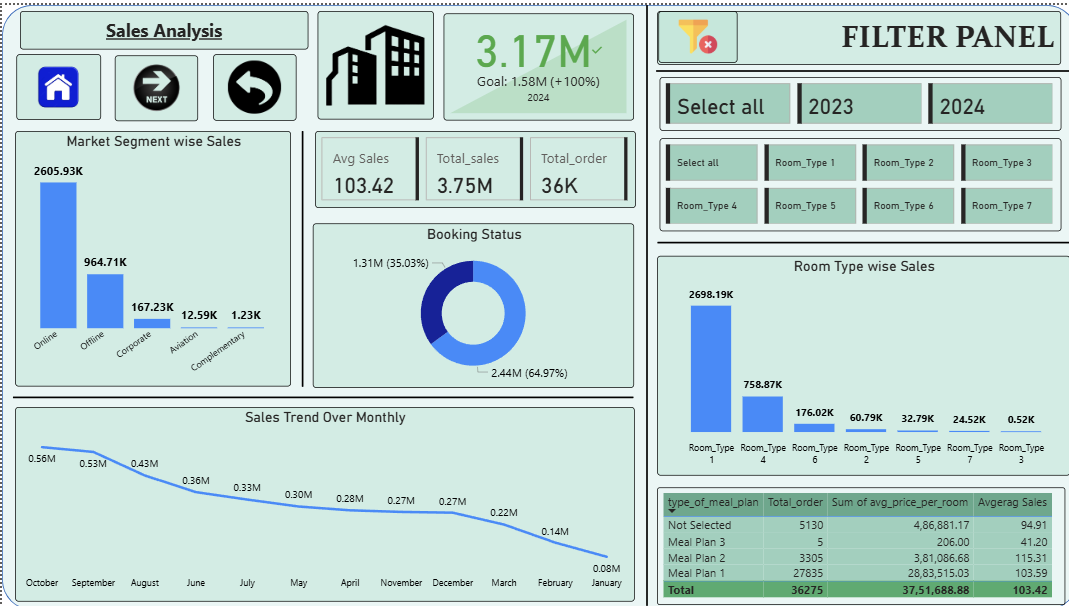

What the dashboard file says about the page in this screenshot:
{"tool":"powerbi","page":{"name":"Sales Analysis","canvas":[1280,720],"ordinal":1},"visuals":[{"type":"shape","box":[0,0,1280,720.3],"z":0},{"type":"cardVisual","fields":{"Data":["Sheet1.Avgerag Sales","Sheet1.Total_sales","Sheet1.Total_order"]},"box":[372.5,150,381.2,91.2],"z":1000},{"type":"columnChart","title":"Market Segment wise Sales","fields":{"Category":["Sheet1.market_segment_type"],"Y":["Sum(Sheet1.avg_price_per_room)"]},"box":[15.7,150,328.6,304.3],"z":2000},{"type":"lineChart","title":"Sales Trend Over Monthly","fields":{"Y":["Sum(Sheet1.avg_price_per_room)"],"Category":["Sheet1.MonthName"]},"box":[15.7,478.6,737.1,231.4],"z":3000},{"type":"columnChart","title":"Room Type wise Sales","fields":{"Category":["Sheet1.room_type_reserved"],"Y":["Sum(Sheet1.avg_price_per_room)"]},"box":[780.5,298.3,491.4,261.3],"z":4000},{"type":"tableEx","fields":{"Values":["Sheet1.type_of_meal_plan","Sheet1.Total_order","Sum(Sheet1.avg_price_per_room)","Sheet1.Avgerag Sales"]},"box":[780,574.3,485.7,140],"z":5000},{"type":"donutChart","title":"Booking Status","fields":{"Category":["Sheet1.booking_status"],"Y":["Sum(Sheet1.avg_price_per_room)"]},"box":[370,260,382.9,195.7],"z":6000},{"type":"kpi","fields":{"Indicator":["Sum(Sheet1.avg_price_per_room)"],"Goal":["Sum(Sheet1.Target)"],"TrendLine":["Sheet1.arrival_year"]},"box":[526.2,10,226.2,127.5],"z":7000},{"type":"advancedSlicerVisual","fields":{"Values":["Sheet1.room_type_reserved"]},"box":[782.7,158,478.7,110.7],"z":8000},{"type":"advancedSlicerVisual","fields":{"Values":["Sheet1.arrival_year"]},"box":[782.7,86,478.7,64],"z":9000},{"type":"image","box":[17.3,59,100.6,78.6],"z":10000},{"type":"shape","box":[342.3,150,30,304.6],"z":11000},{"type":"shape","box":[752.7,0,30,715.5],"z":12000},{"type":"shape","box":[780,272.7,492.7,20],"z":13000},{"type":"shape","box":[13.1,456.9,739.2,20],"z":14000},{"type":"textbox","box":[780,6.7,480.8,64.2],"z":15000},{"type":"image","box":[780.8,7.5,94.2,61.7],"z":16000},{"type":"shape","box":[778,68,493,20],"z":17000},{"type":"image","box":[134.7,59.3,99.3,78.7],"z":18000},{"type":"textbox","box":[21.7,6.7,343.3,46.1],"z":19000},{"type":"image","box":[375.8,6.7,138.3,129.2],"z":20000},{"type":"image","box":[250.7,58.6,99.3,79.3],"z":21000}]}

Visuals, with their boxes in screenshot pixels (x1, y1, x2, y2), scaled from the page's 1280x720 canvas onto the 1069x606 screenshot:
shape: 0:0:1068:605
cardVisual - Sheet1.Avgerag Sales x Sheet1.Total_sales: 311:126:629:203
"Market Segment wise Sales" columnChart: 13:126:288:382
"Sales Trend Over Monthly" lineChart: 13:403:629:598
"Room Type wise Sales" columnChart: 652:251:1062:471
tableEx - Sheet1.type_of_meal_plan x Sheet1.Total_order: 651:483:1057:601
"Booking Status" donutChart: 309:219:629:384
kpi - Sum(Sheet1.avg_price_per_room) x Sum(Sheet1.Target): 439:8:628:116
advancedSlicerVisual - Sheet1.room_type_reserved: 654:133:1053:226
advancedSlicerVisual - Sheet1.arrival_year: 654:72:1053:126
image: 14:50:98:116
shape: 286:126:311:383
shape: 629:0:654:602
shape: 651:230:1063:246
shape: 11:385:628:401
textbox: 651:6:1053:60
image: 652:6:731:58
shape: 650:57:1061:74
image: 112:50:195:116
textbox: 18:6:305:44
image: 314:6:429:114
image: 209:49:292:116
